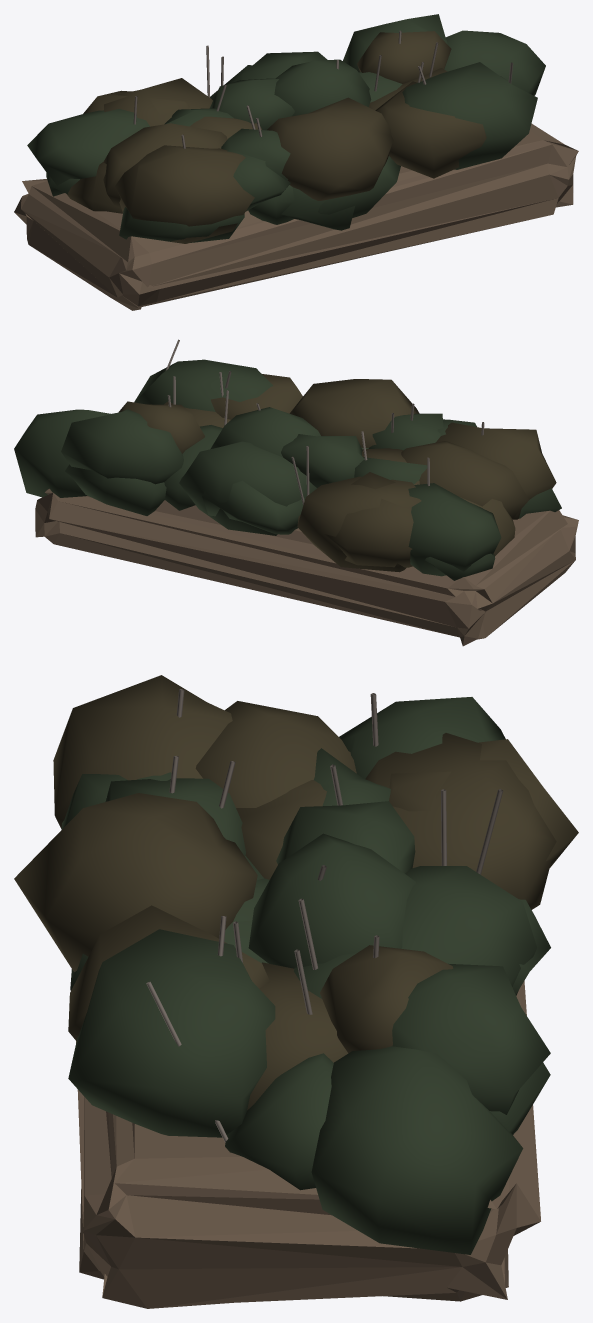
Rendered from laurel_berm.glb.
3 views of the same model, one above another, from view 1: azimuth 30°, elevation 25°; view 2: azimuth 150°, elevation 25°; view 3: azimuth 270°, elevation 25° (orthographic). The views are drawn at different scales.
Parts seen in each view (by area): view 1: laurel_berm; view 2: laurel_berm; view 3: laurel_berm.
Part boxes in pixels (<box>): laurel_berm: <box>14,14,578,310</box>; laurel_berm: <box>14,339,578,646</box>; laurel_berm: <box>14,675,578,1308</box>.
Size of the model in its own units: 7.98 by 2.41 by 4.15.
